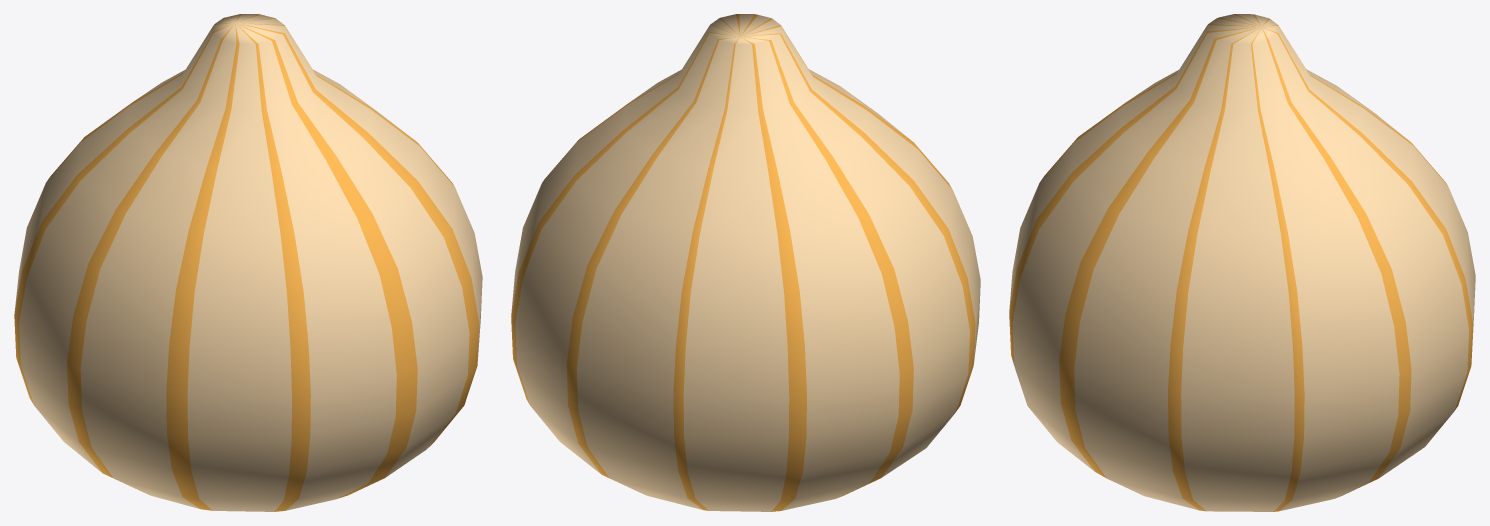
Rendered from onion.fbx.
The picture shows the model from 3 angles, left to right: view 1: azimuth 30°, elevation 25°; view 2: azimuth 150°, elevation 25°; view 3: azimuth 270°, elevation 25°; orthographic projection.
Parts seen in each view (by area): view 1: Onion; view 2: Onion; view 3: Onion.
Boxes of the visible parts, bbox=[...] form: Onion: bbox=[14, 14, 482, 511]; Onion: bbox=[511, 14, 980, 511]; Onion: bbox=[1009, 14, 1475, 511].
Size of the model in its own units: 221 by 233 by 221.
